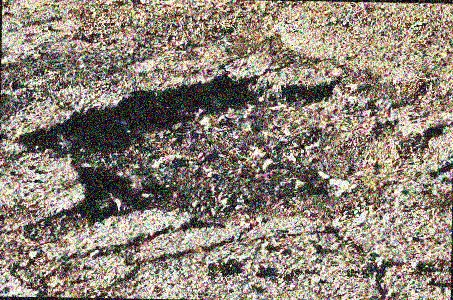pothole: (14, 69, 440, 232)
